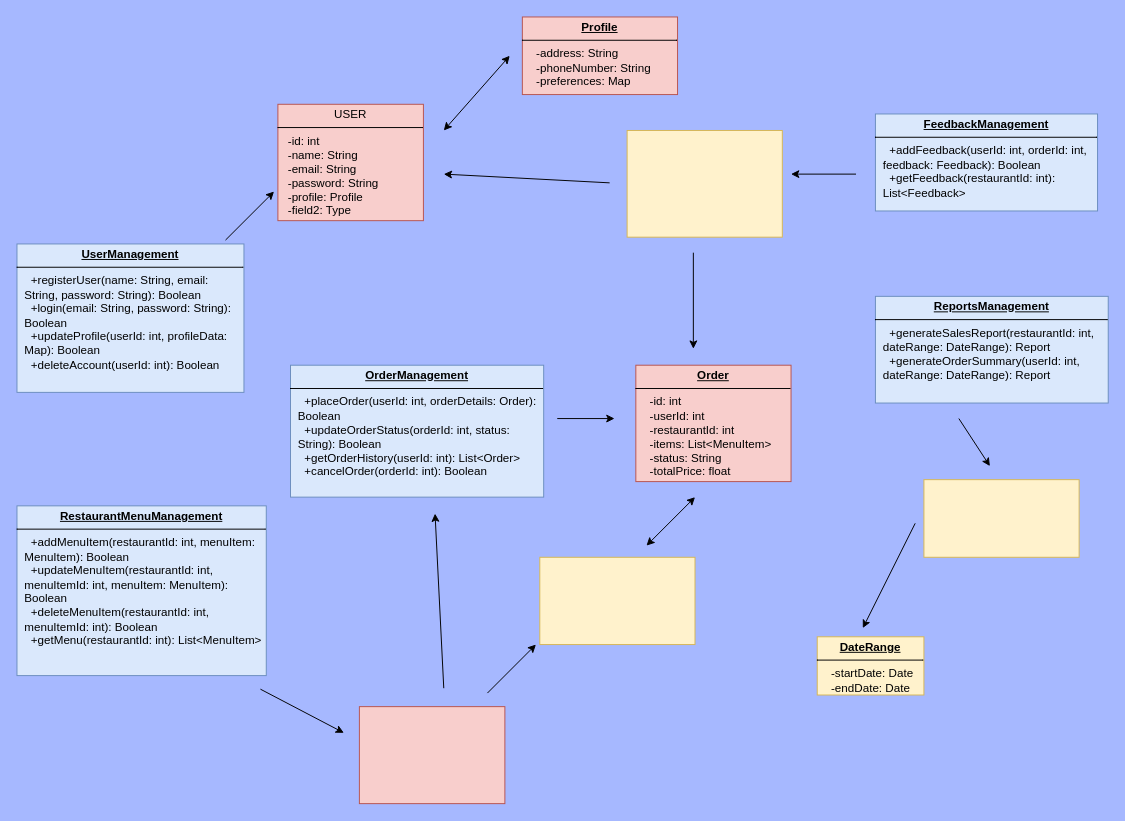
Some shapes in this 1125 by 821 pixel diagram are drawn without their labels. The centre of each missing label's shape, as x and y in pixels:
"Feedback -id: int -userId: int -orderId: int -rating: int -comments: String" belongs at pixel 704 183.
"MenuItem -id: int -name: String -description: String -price: float" belongs at pixel 617 600.
"Report -id: int -title: String -data: Map" belongs at pixel 1001 518.
"Restaurant -id: int -name: String -location: String -menu: List<MenuItem>" belongs at pixel 431 755.
